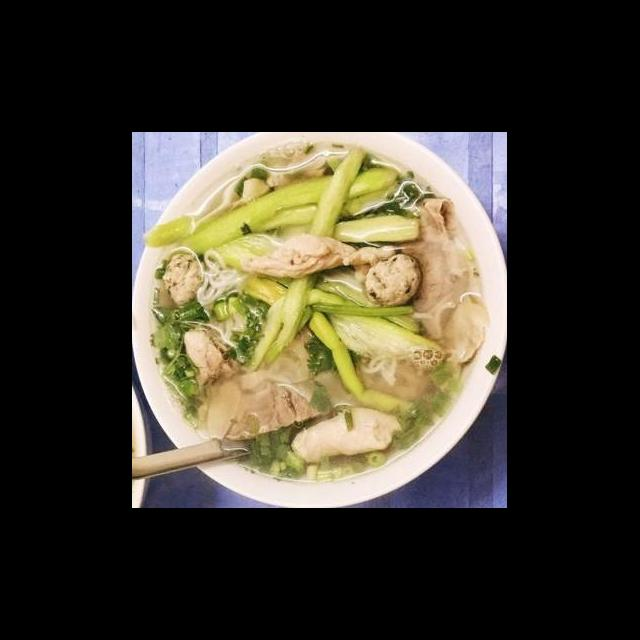bun: (196, 245, 248, 309)
bun moc: (147, 153, 508, 508)
thit heo: (394, 193, 496, 367), (234, 229, 400, 283)
vien moc: (362, 251, 426, 310), (162, 248, 206, 313)
